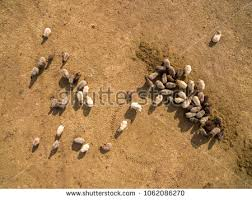sheep: (209, 28, 223, 45), (129, 100, 143, 114), (151, 94, 165, 108), (49, 139, 61, 155), (143, 74, 155, 90), (116, 119, 128, 134), (29, 134, 42, 147), (54, 122, 65, 137), (71, 69, 83, 82), (36, 55, 47, 69), (77, 142, 91, 153), (74, 90, 83, 107), (98, 142, 113, 152), (182, 63, 192, 78), (59, 50, 71, 62), (40, 26, 53, 37), (28, 66, 39, 79), (194, 128, 208, 138), (72, 136, 87, 145), (58, 66, 69, 78), (209, 126, 221, 137), (84, 95, 95, 107), (75, 79, 88, 89), (192, 93, 201, 107), (45, 50, 56, 61), (197, 79, 206, 92), (158, 88, 174, 95), (200, 116, 211, 126), (176, 79, 187, 89), (55, 101, 66, 110), (183, 110, 196, 117), (166, 65, 175, 75), (173, 96, 184, 104)
